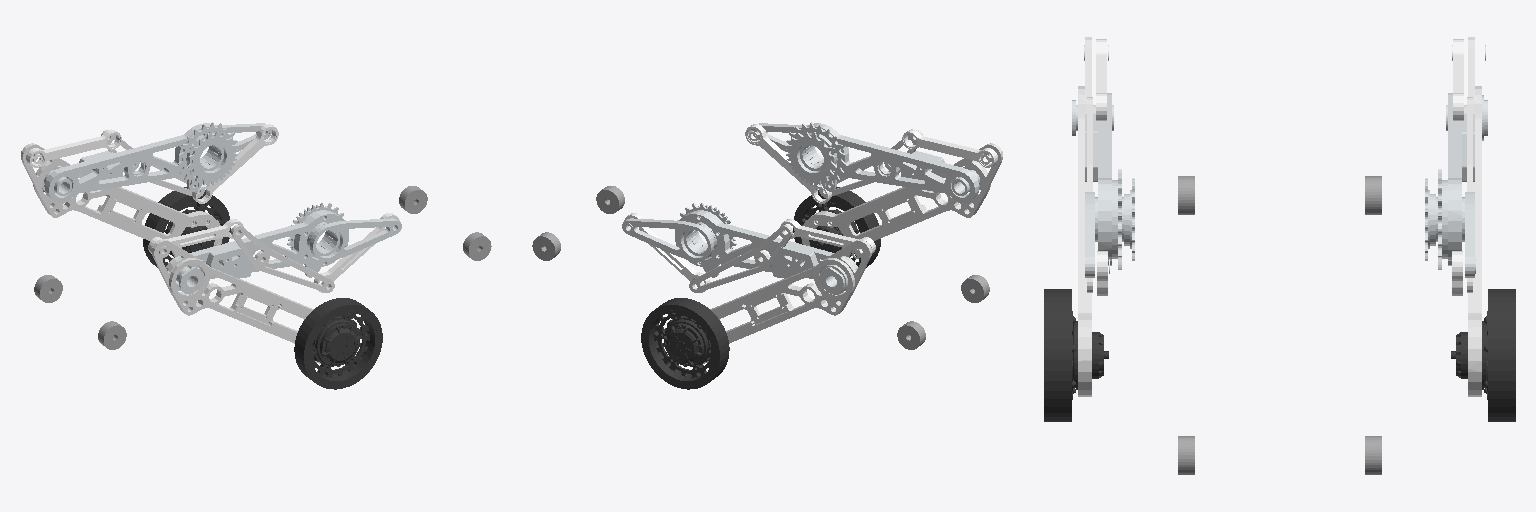
URDF robot description (rl_chassis_v12):
<?xml version='1.0' encoding='utf-8'?>
<!--
  rl_chassis_v12 = rl_chassis_v11_std + 4 POM 导轮。
  导轮关节：pom_wheel1_joint ... pom_wheel4_joint（被动转动，MJCF 中不加电机）。
  base_link 使用完整底盘网格 base_link_full.STL（raw 导出的 base_link.STL 不完整）。
-->
<robot name="rl_chassis_v12">
  <link name="base_link">
    <inertial>
      <origin xyz="-0.0046559117 0.00034120008 0.090788346" rpy="-1.5707963 0 1.5707963" />
      <mass value="15.64124353574336" />
      <inertia ixx="0.08236302652" ixy="0.0001245970808" ixz="-1.028204921e-05" iyy="0.1528007667" iyz="-0.000231448351" izz="0.09199505328" />
    </inertial>
    <visual>
      <origin xyz="0 0 0" rpy="-1.5707963 0 1.5707963" />
      <geometry>
        <mesh filename="../meshes/base_link_full.STL" />
      </geometry>
      <material name="">
        <color rgba="1 1 1 0.25" />
      </material>
    </visual>
    <collision>
      <origin xyz="0 0 0" rpy="-1.5707963 0 1.5707963" />
      <geometry>
        <mesh filename="../meshes/base_link_full.STL" />
      </geometry>
    </collision>
  </link>
  <link name="Left_front_Link">
    <inertial>
      <origin xyz="0.020720942 0 -0.018528575" rpy="0 3.673205e-06 0" />
      <mass value="0.116855368880026" />
      <inertia ixx="5.753889388e-05" ixy="-9.846249001e-10" ixz="-3.386722571e-05" iyy="0.0001757723773" iyz="-1.202130371e-12" izz="0.0001731448649" />
    </inertial>
    <visual>
      <origin xyz="0 0 0" rpy="0 3.673205e-06 0" />
      <geometry>
        <mesh filename="../meshes/Left_front_Link.STL" />
      </geometry>
      <material name="">
        <color rgba="0.898039215686275 0.917647058823529 0.929411764705882 1" />
      </material>
    </visual>
    <collision>
      <origin xyz="0 0 0" rpy="0 3.673205e-06 0" />
      <geometry>
        <mesh filename="../meshes/Left_front_Link.STL" />
      </geometry>
    </collision>
  </link>
  <joint name="Left_front_joint" type="continuous">
    <origin xyz="-0.001951 0.1755 0.11508" rpy="-1.5707963 0 0" />
    <parent link="base_link" />
    <child link="Left_front_Link" />
    <axis xyz="0 0 1" />
    <limit lower="-6.28" upper="6.28" effort="40" velocity="1" />
  </joint>
  <link name="Left_front_child1_link">
    <inertial>
      <origin xyz="-0.0475437251 0.0298318445 0.00480109902" rpy="-3.1415853 3.673119e-06 0.0068666" />
      <mass value="0.0291027754524193" />
      <inertia ixx="1.504472584e-05" ixy="-2.185320108e-05" ixz="1.415206517e-08" iyy="3.542535475e-05" iyz="9.015861169e-09" izz="4.999594301e-05" />
    </inertial>
    <visual>
      <origin xyz="-0.100071446 0.0627908435 -1.68247416e-09" rpy="-3.1415853 3.673119e-06 0.0068666" />
      <geometry>
        <mesh filename="../meshes/Left_front_child1_link.STL" />
      </geometry>
      <material name="">
        <color rgba="1 1 1 1" />
      </material>
    </visual>
    <collision>
      <origin xyz="0 0 0" rpy="-3.1415853 3.673119e-06 0.0068666" />
      <geometry>
        <mesh filename="../meshes/Left_front_child1_link.STL" />
      </geometry>
    </collision>
  </link>
  <joint name="Left_front_child1_joint" type="continuous">
    <origin xyz="0.0999999789 1.56497905e-07 -0.0209999983" rpy="0 0 0" />
    <parent link="Left_front_Link" />
    <child link="Left_front_child1_link" />
    <axis xyz="0 0 1" />
    <limit lower="-6.28" upper="6.28" effort="40" velocity="1" />
  </joint>
  <link name="Left_front_child2_link">
    <inertial>
      <origin xyz="-0.075240407 -0.051614709 0.002999901" rpy="-3.1415919 8.200069e-06 -1.0081334" />
      <mass value="0.0288133993862776" />
      <inertia ixx="8.214804701e-05" ixy="-7.068548926e-06" ixz="-3.180420776e-18" iyy="3.579972347e-06" iyz="7.875418801e-19" izz="8.555513896e-05" />
    </inertial>
    <visual>
      <origin xyz="0 0 0" rpy="-3.1415919 8.200069e-06 -1.0081334" />
      <geometry>
        <mesh filename="../meshes/Left_front_child2_link.STL" />
      </geometry>
      <material name="">
        <color rgba="0.929411764705882 0.929411764705882 0.929411764705882 1" />
      </material>
    </visual>
    <collision>
      <origin xyz="0 0 0" rpy="-3.1415919 8.200069e-06 -1.0081334" />
      <geometry>
        <mesh filename="../meshes/Left_front_child2_link.STL" />
      </geometry>
    </collision>
  </link>
  <joint name="Left_front_child2_joint" type="continuous">
    <origin xyz="-0.100071446 0.0627908435 0.0134999983" rpy="0 0 0" />
    <parent link="Left_front_child1_link" />
    <child link="Left_front_child2_link" />
    <axis xyz="0 0 1" />
    <limit lower="-6.28" upper="6.28" effort="40" velocity="1" />
  </joint>
  <link name="Left_front_child3_link">
    <inertial>
      <origin xyz="-0.0592002446 -0.000135145674 0.00466507761" rpy="-3.141585 2.917293e-06 0.1070666" />
      <mass value="0.0280256475740675" />
      <inertia ixx="1.458227402e-06" ixy="-4.377316923e-06" ixz="6.252009248e-08" iyy="4.26447828e-05" iyz="6.58482937e-09" izz="4.363937374e-05" />
    </inertial>
    <visual>
      <origin xyz="-0.114998475 -0.000266061394 7.12908753e-12" rpy="-3.141585 2.917293e-06 0.1070666" />
      <geometry>
        <mesh filename="../meshes/Left_front_child3_link.STL" />
      </geometry>
      <material name="">
        <color rgba="1 1 1 1" />
      </material>
    </visual>
    <collision>
      <origin xyz="0 0 0" rpy="-3.141585 2.917293e-06 0.1070666" />
      <geometry>
        <mesh filename="../meshes/Left_front_child3_link.STL" />
      </geometry>
    </collision>
  </link>
  <joint name="Left_front_child3_joint" type="continuous">
    <origin xyz="-0.136668405 -0.110450469 -0.012499876" rpy="0 0 0" />
    <parent link="Left_front_child2_link" />
    <child link="Left_front_child3_link" />
    <axis xyz="0 0 1" />
    <limit lower="-6.28" upper="6.28" effort="40" velocity="1" />
  </joint>
  <link name="Left_rear_link">
    <inertial>
      <origin xyz="-0.10384386 -0.00089227451 0.0081987714" rpy="3.141589 3.673196e-06 1.5730702" />
      <mass value="0.385404412043693" />
      <inertia ixx="0.002524151607" ixy="-4.842977512e-05" ixz="-2.404903569e-06" iyy="0.0001494360836" iyz="-0.0001526415186" izz="0.002612320627" />
    </inertial>
    <visual>
      <origin xyz="0 0 0" rpy="3.141589 3.673196e-06 1.5730702" />
      <geometry>
        <mesh filename="../meshes/Left_rear_link.STL" />
      </geometry>
      <material name="">
        <color rgba="0.898039215686275 0.917647058823529 0.929411764705882 1" />
      </material>
    </visual>
    <collision>
      <origin xyz="0 0 0" rpy="3.141589 3.673196e-06 1.5730702" />
      <geometry>
        <mesh filename="../meshes/Left_rear_link.STL" />
      </geometry>
    </collision>
  </link>
  <joint name="Left_rear_joint" type="continuous">
    <origin xyz="-0.001951 0.1515 0.11508" rpy="-1.5707963 0 0" />
    <parent link="base_link" />
    <child link="Left_rear_link" />
    <axis xyz="0 0 1" />
    <limit lower="-6.28" upper="6.28" effort="40" velocity="1" />
  </joint>
  <link name="Left_rear_child1_link">
    <inertial>
      <origin xyz="0.10391615 0.065343452 0.0054596195" rpy="-3.1415915 -5.059306e-06 -1.0081298" />
      <mass value="0.187774529973076" />
      <inertia ixx="0.001792193365" ixy="8.908801083e-06" ixz="-3.974423369e-07" iyy="7.838139344e-05" iyz="-1.302343444e-06" izz="0.001866267375" />
    </inertial>
    <visual>
      <origin xyz="0 0 0" rpy="-3.1415915 -5.059306e-06 -1.0081298" />
      <geometry>
        <mesh filename="../meshes/Left_rear_child1_link.STL" />
      </geometry>
      <material name="">
        <color rgba="0.929411764705882 0.929411764705882 0.929411764705882 1" />
      </material>
    </visual>
    <collision>
      <origin xyz="0 0 0" rpy="-3.1415915 -5.059306e-06 -1.0081298" />
      <geometry>
        <mesh filename="../meshes/Left_rear_child1_link.STL" />
      </geometry>
    </collision>
  </link>
  <joint name="Left_rear_child1_joint" type="continuous">
    <origin xyz="-0.21499951 -0.00048882211 0.017999212" rpy="0 0 0" />
    <parent link="Left_rear_link" />
    <child link="Left_rear_child1_link" />
    <axis xyz="0 0 1" />
    <limit lower="-6.28" upper="6.28" effort="40" velocity="1" />
  </joint>
  <link name="Left_Wheel_link">
    <inertial>
      <origin xyz="0.00010620928 4.2472314e-06 0.0079509143" rpy="3.1415909 -4.889671e-06 -0.44305977" />
      <mass value="0.304045474548524" />
      <inertia ixx="0.0002882533236" ixy="-3.721727505e-07" ixz="-4.796590888e-07" iyy="0.0002879143376" iyz="2.513604943e-07" izz="0.0004951986725" />
    </inertial>
    <visual>
      <origin xyz="0 0 0" rpy="3.1415909 -4.889671e-06 -0.44305977" />
      <geometry>
        <mesh filename="../meshes/Left_Wheel_link.STL" />
      </geometry>
      <material name="">
        <color rgba="0.298039215686275 0.298039215686275 0.298039215686275 1" />
      </material>
    </visual>
    <collision>
      <origin xyz="0 0 0" rpy="3.1415909 -4.889671e-06 -0.44305977" />
      <geometry>
        <mesh filename="../meshes/Left_Wheel_link.STL" />
      </geometry>
    </collision>
  </link>
  <joint name="Left_Wheel_joint" type="continuous">
    <origin xyz="0.21484219 0.13549473 0.017550293" rpy="0 0 0" />
    <parent link="Left_rear_child1_link" />
    <child link="Left_Wheel_link" />
    <axis xyz="0 0 1" />
    <limit lower="-6.28" upper="6.28" effort="40" velocity="1" />
  </joint>
  <link name="Right_front_link">
    <inertial>
      <origin xyz="0.020154374 0 -0.018664445" rpy="3.1415927 -3.673205e-06 0" />
      <mass value="0.116025988419479" />
      <inertia ixx="5.716029422e-05" ixy="9.745768683e-10" ixz="3.327789916e-05" iyy="0.0001730495178" iyz="3.195515282e-14" izz="0.0001705332826" />
    </inertial>
    <visual>
      <origin xyz="0 0 0" rpy="3.1415927 -3.673205e-06 0" />
      <geometry>
        <mesh filename="../meshes/Right_front_link.STL" />
      </geometry>
      <material name="">
        <color rgba="0.898039215686275 0.917647058823529 0.929411764705882 1" />
      </material>
    </visual>
    <collision>
      <origin xyz="0 0 0" rpy="3.1415927 -3.673205e-06 0" />
      <geometry>
        <mesh filename="../meshes/Right_front_link.STL" />
      </geometry>
    </collision>
  </link>
  <joint name="Right_front_joint" type="continuous">
    <origin xyz="-0.001951 -0.1755 0.11508" rpy="1.5707963 0 0" />
    <parent link="base_link" />
    <child link="Right_front_link" />
    <axis xyz="0 0 1" />
    <limit lower="-6.28" upper="6.28" effort="40" velocity="1" />
  </joint>
  <link name="Right_front_child1_link">
    <inertial>
      <origin xyz="-0.0462263005 -0.0290053065 0.00463846162" rpy="7.371632e-06 -3.673119e-06 -0.0068666" />
      <mass value="0.029932155912967" />
      <inertia ixx="1.557828403e-05" ixy="-2.263573406e-05" ixz="4.772358725e-08" iyy="3.668872644e-05" iyz="3.040269035e-08" izz="5.176727225e-05" />
    </inertial>
    <visual>
      <origin xyz="-0.100071359 -0.0627908325 -1.68247386e-09" rpy="7.371632e-06 -3.673119e-06 -0.0068666" />
      <geometry>
        <mesh filename="../meshes/Right_front_child1_link.STL" />
      </geometry>
      <material name="">
        <color rgba="1 1 1 1" />
      </material>
    </visual>
    <collision>
      <origin xyz="0 0 0" rpy="7.371632e-06 -3.673119e-06 -0.0068666" />
      <geometry>
        <mesh filename="../meshes/Right_front_child1_link.STL" />
      </geometry>
    </collision>
  </link>
  <joint name="Right_front_child1_joint" type="continuous">
    <origin xyz="0.100000046 -1.67484869e-07 -0.0209999983" rpy="0 0 0" />
    <parent link="Right_front_link" />
    <child link="Right_front_child1_link" />
    <axis xyz="0 0 1" />
    <limit lower="-6.28" upper="6.28" effort="40" velocity="1" />
  </joint>
  <link name="Right_front_child2_link">
    <inertial>
      <origin xyz="-0.075240429 0.051614665 0.003000099" rpy="7.69177e-07 -8.200069e-06 1.0081334" />
      <mass value="0.0288133993862776" />
      <inertia ixx="8.215270954e-05" ixy="-7.070698082e-06" ixz="1.941597668e-18" iyy="3.579396824e-06" iyz="1.364349856e-18" izz="8.555922597e-05" />
    </inertial>
    <visual>
      <origin xyz="0 0 0" rpy="7.69177e-07 -8.200069e-06 1.0081334" />
      <geometry>
        <mesh filename="../meshes/Right_front_child2_link.STL" />
      </geometry>
      <material name="">
        <color rgba="0.929411764705882 0.929411764705882 0.929411764705882 1" />
      </material>
    </visual>
    <collision>
      <origin xyz="0 0 0" rpy="7.69177e-07 -8.200069e-06 1.0081334" />
      <geometry>
        <mesh filename="../meshes/Right_front_child2_link.STL" />
      </geometry>
    </collision>
  </link>
  <joint name="Right_front_joint2_joint" type="continuous">
    <origin xyz="-0.100071359 -0.0627908325 0.0134999983" rpy="0 0 0" />
    <parent link="Right_front_child1_link" />
    <child link="Right_front_child2_link" />
    <axis xyz="0 0 1" />
    <limit lower="-6.28" upper="6.28" effort="40" velocity="1" />
  </joint>
  <link name="Right_front_joint3_link">
    <inertial>
      <origin xyz="-0.0592002027 0.000135235606 0.00463589761" rpy="7.702089e-06 -2.917293e-06 -0.1070666" />
      <mass value="0.0280256475740675" />
      <inertia ixx="1.460641578e-06" ixy="-4.37731692e-06" ixz="-7.527515553e-08" iyy="4.264719695e-05" iyz="-7.925692701e-09" izz="4.363937371e-05" />
    </inertial>
    <visual>
      <origin xyz="-0.114998399 0.000266219656 7.13332815e-12" rpy="7.702089e-06 -2.917293e-06 -0.1070666" />
      <geometry>
        <mesh filename="../meshes/Right_front_joint3_link.STL" />
      </geometry>
      <material name="">
        <color rgba="1 1 1 1" />
      </material>
    </visual>
    <collision>
      <origin xyz="0 0 0" rpy="7.702089e-06 -2.917293e-06 -0.1070666" />
      <geometry>
        <mesh filename="../meshes/Right_front_joint3_link.STL" />
      </geometry>
    </collision>
  </link>
  <joint name="Right_front_joint3_joint" type="continuous">
    <origin xyz="-0.136668391 0.11045049 -0.012500124" rpy="0 0 0" />
    <parent link="Right_front_child2_link" />
    <child link="Right_front_joint3_link" />
    <axis xyz="0 0 1" />
    <limit lower="-6.28" upper="6.28" effort="40" velocity="1" />
  </joint>
  <link name="Right_rear_link">
    <inertial>
      <origin xyz="-0.1038438 0.00089233461 0.0081995277" rpy="-3.664853e-06 -3.673196e-06 -1.5730702" />
      <mass value="0.385404412043693" />
      <inertia ixx="0.002486447913" ixy="-5.250141042e-05" ixz="2.818298659e-06" iyy="0.0001483070126" iyz="0.0001337665065" izz="0.002580609369" />
    </inertial>
    <visual>
      <origin xyz="0 0 0" rpy="-3.664853e-06 -3.673196e-06 -1.5730702" />
      <geometry>
        <mesh filename="../meshes/Right_rear_link.STL" />
      </geometry>
      <material name="">
        <color rgba="0.898039215686275 0.917647058823529 0.929411764705882 1" />
      </material>
    </visual>
    <collision>
      <origin xyz="0 0 0" rpy="-3.664853e-06 -3.673196e-06 -1.5730702" />
      <geometry>
        <mesh filename="../meshes/Right_rear_link.STL" />
      </geometry>
    </collision>
  </link>
  <joint name="Right_rear_joint" type="continuous">
    <origin xyz="-0.001951 -0.1515 0.11508" rpy="1.5707963 0 0" />
    <parent link="base_link" />
    <child link="Right_rear_link" />
    <axis xyz="0 0 1" />
    <limit lower="-6.28" upper="6.28" effort="40" velocity="1" />
  </joint>
  <link name="Right_rear_child1_link">
    <inertial>
      <origin xyz="0.10391619 -0.065343412 0.005419583" rpy="1.151928e-06 5.059306e-06 1.0081298" />
      <mass value="0.187774529973075" />
      <inertia ixx="0.001791187399" ixy="8.959222055e-06" ixz="4.279881626e-07" iyy="7.836742727e-05" iyz="1.562033912e-06" izz="0.001865281397" />
    </inertial>
    <visual>
      <origin xyz="0 0 0" rpy="1.151928e-06 5.059306e-06 1.0081298" />
      <geometry>
        <mesh filename="../meshes/Right_rear_child1_link.STL" />
      </geometry>
      <material name="">
        <color rgba="0.929411764705882 0.929411764705882 0.929411764705882 1" />
      </material>
    </visual>
    <collision>
      <origin xyz="0 0 0" rpy="1.151928e-06 5.059306e-06 1.0081298" />
      <geometry>
        <mesh filename="../meshes/Right_rear_child1_link.STL" />
      </geometry>
    </collision>
  </link>
  <joint name="Right_rear_child1_joint" type="continuous">
    <origin xyz="-0.21499938 0.00048895405 0.018000788" rpy="0 0 0" />
    <parent link="Right_rear_link" />
    <child link="Right_rear_child1_link" />
    <axis xyz="0 0 1" />
    <limit lower="-6.28" upper="6.28" effort="40" velocity="1" />
  </joint>
  <link name="Right_Wheel_link">
    <inertial>
      <origin xyz="0.00010626758 -4.1888956e-06 0.0079509128" rpy="-1.736269e-06 4.889671e-06 0.44305977" />
      <mass value="0.304045452275079" />
      <inertia ixx="0.000288256703" ixy="-3.746691011e-07" ixz="4.800295747e-07" iyy="0.0002879126093" iyz="-2.643472537e-07" izz="0.0004952006227" />
    </inertial>
    <visual>
      <origin xyz="0 0 0" rpy="-1.736269e-06 4.889671e-06 0.44305977" />
      <geometry>
        <mesh filename="../meshes/Right_Wheel_link.STL" />
      </geometry>
      <material name="">
        <color rgba="0.298039215686275 0.298039215686275 0.298039215686275 1" />
      </material>
    </visual>
    <collision>
      <origin xyz="0 0 0" rpy="-1.736269e-06 4.889671e-06 0.44305977" />
      <geometry>
        <mesh filename="../meshes/Right_Wheel_link.STL" />
      </geometry>
    </collision>
  </link>
  <joint name="Right_Wheel_joint" type="continuous">
    <origin xyz="0.21484232 -0.1354946 0.017549707" rpy="0 0 0" />
    <parent link="Right_rear_child1_link" />
    <child link="Right_Wheel_link" />
    <axis xyz="0 0 1" />
    <limit lower="-6.28" upper="6.28" effort="40" velocity="1" />
  </joint>
  <link name="pom_wheel1_Link">
    <inertial>
      <origin xyz="0 0 0" rpy="0 -1.5707963 0" />
      <mass value="0.0190120155316375" />
      <inertia ixx="3.04700549e-06" ixy="4.677349269e-21" ixz="-3.08651462e-20" iyy="1.879977811e-06" iyz="-4.601321062e-13" izz="1.879978318e-06" />
    </inertial>
    <visual>
      <origin xyz="-0.27504899 0.0095689255 -0.083999999" rpy="0 -1.5707963 0" />
      <geometry>
        <mesh filename="../meshes/pom_wheel1_Link.STL" />
      </geometry>
      <material name="">
        <color rgba="0.698039215686274 0.698039215686274 0.698039215686274 1" />
      </material>
    </visual>
    <collision>
      <origin xyz="-0.27504899 0.0095689255 -0.083999999" rpy="0 -1.5707963 0" />
      <geometry>
        <mesh filename="../meshes/pom_wheel1_Link.STL" />
      </geometry>
    </collision>
  </link>
  <joint name="pom_wheel1_joint" type="continuous">
    <origin xyz="0.27504899 0.083999999 0.0095689255" rpy="-1.5707963 0 0" />
    <parent link="base_link" />
    <child link="pom_wheel1_Link" />
    <axis xyz="0 0 1" />
    <limit lower="-6.28" upper="6.28" effort="40" velocity="1" />
  </joint>
  <link name="pom_wheel2_Link">
    <inertial>
      <origin xyz="0 0 0" rpy="0 1.5707963 -3.1415927" />
      <mass value="0.0190120155316375" />
      <inertia ixx="3.04700545e-06" ixy="2.904901288e-20" ixz="1.281588222e-18" iyy="1.879977746e-06" iyz="-5.196445214e-14" izz="1.879978343e-06" />
    </inertial>
    <visual>
      <origin xyz="-0.275049 -0.009568925 -0.083999999" rpy="0 1.5707963 -3.1415927" />
      <geometry>
        <mesh filename="../meshes/pom_wheel2_Link.STL" />
      </geometry>
      <material name="">
        <color rgba="0.698039215686274 0.698039215686274 0.698039215686274 1" />
      </material>
    </visual>
    <collision>
      <origin xyz="-0.275049 -0.009568925 -0.083999999" rpy="0 1.5707963 -3.1415927" />
      <geometry>
        <mesh filename="../meshes/pom_wheel2_Link.STL" />
      </geometry>
    </collision>
  </link>
  <joint name="pom_wheel2_joint" type="continuous">
    <origin xyz="0.275049 -0.083999999 0.009568925" rpy="1.5707963 0 0" />
    <parent link="base_link" />
    <child link="pom_wheel2_Link" />
    <axis xyz="0 0 1" />
    <limit lower="-6.28" upper="6.28" effort="40" velocity="1" />
  </joint>
  <link name="pom_wheel3_Link">
    <inertial>
      <origin xyz="0 0 0" rpy="0 1.5707963 -3.1415927" />
      <mass value="0.0190120155316375" />
      <inertia ixx="3.047006317e-06" ixy="5.612797232e-20" ixz="-3.592269863e-19" iyy="1.879978882e-06" iyz="2.43510193e-13" izz="1.879978075e-06" />
    </inertial>
    <visual>
      <origin xyz="0.278951 -0.009568925 -0.083999999" rpy="0 1.5707963 -3.1415927" />
      <geometry>
        <mesh filename="../meshes/pom_wheel3_Link.STL" />
      </geometry>
      <material name="">
        <color rgba="0.698039215686274 0.698039215686274 0.698039215686274 1" />
      </material>
    </visual>
    <collision>
      <origin xyz="0.278951 -0.009568925 -0.083999999" rpy="0 1.5707963 -3.1415927" />
      <geometry>
        <mesh filename="../meshes/pom_wheel3_Link.STL" />
      </geometry>
    </collision>
  </link>
  <joint name="pom_wheel3_joint" type="continuous">
    <origin xyz="-0.278951 -0.083999999 0.009568925" rpy="1.5707963 0 0" />
    <parent link="base_link" />
    <child link="pom_wheel3_Link" />
    <axis xyz="0 0 1" />
    <limit lower="-6.28" upper="6.28" effort="40" velocity="1" />
  </joint>
  <link name="pom_wheel4_Link">
    <inertial>
      <origin xyz="0 0 0" rpy="0 -1.5707963 0" />
      <mass value="0.0190120155316375" />
      <inertia ixx="3.047005937e-06" ixy="1.848627244e-21" ixz="-7.226750202e-19" iyy="1.879978305e-06" iyz="6.188606558e-13" izz="1.879978271e-06" />
    </inertial>
    <visual>
      <origin xyz="0.278951 0.0095689245 -0.083999999" rpy="0 -1.5707963 0" />
      <geometry>
        <mesh filename="../meshes/pom_wheel4_Link.STL" />
      </geometry>
      <material name="">
        <color rgba="0.698039215686274 0.698039215686274 0.698039215686274 1" />
      </material>
    </visual>
    <collision>
      <origin xyz="0.278951 0.0095689245 -0.083999999" rpy="0 -1.5707963 0" />
      <geometry>
        <mesh filename="../meshes/pom_wheel4_Link.STL" />
      </geometry>
    </collision>
  </link>
  <joint name="pom_wheel4_joint" type="continuous">
    <origin xyz="-0.278951 0.083999999 0.0095689245" rpy="-1.5707963 0 0" />
    <parent link="base_link" />
    <child link="pom_wheel4_Link" />
    <axis xyz="0 0 1" />
    <limit lower="-6.28" upper="6.28" effort="40" velocity="1" />
  </joint>
</robot>

--- Facts derived from the render (not from the file) ---
3 views of the same robot in one strip: view 1: azimuth 30°, elevation 25°; view 2: azimuth 150°, elevation 25°; view 3: azimuth 270°, elevation 25° (orthographic).
Robot: rl_chassis_v12 — 19 links, 18 joints (18 continuous); root link base_link; default pose: every joint at zero.
Links seen in each view (by area): view 1: Right_Wheel_link, Left_rear_link, Right_rear_child1_link, Left_rear_child1_link, Right_rear_link, Right_front_link, Left_front_Link, Left_Wheel_link, Right_front_child2_link, Left_front_child3_link, Left_front_child1_link, Right_front_joint3_link (+6 smaller); view 2: Left_Wheel_link, Right_rear_link, Left_rear_child1_link, Right_rear_child1_link, Left_rear_link, Left_front_Link, Right_front_link, Right_Wheel_link, Left_front_child2_link, Right_front_joint3_link, Right_front_child1_link, Left_front_child3_link (+6 smaller); view 3: Left_Wheel_link, Right_Wheel_link, Left_rear_link, Right_rear_link, Right_rear_child1_link, Left_rear_child1_link, Left_front_Link, Right_front_link, Left_front_child3_link, Right_front_joint3_link, pom_wheel1_Link, pom_wheel2_Link (+4 smaller).
Link boxes in pixels (box(x1,y1,x2,y2)): Right_Wheel_link: box(294, 298, 382, 389); Left_rear_link: box(42, 122, 238, 202); Right_rear_child1_link: box(152, 239, 351, 363); Left_rear_child1_link: box(21, 143, 222, 266); Right_rear_link: box(166, 203, 348, 294); Right_front_link: box(288, 205, 401, 261); Left_front_Link: box(188, 123, 271, 184); Left_Wheel_link: box(143, 187, 230, 267); Right_front_child2_link: box(231, 225, 334, 292); Left_front_child3_link: box(26, 129, 121, 167); Left_front_child1_link: box(192, 124, 278, 203); Right_front_joint3_link: box(148, 219, 243, 253); Left_Wheel_link: box(641, 298, 729, 389); Right_rear_link: box(785, 122, 981, 202); Left_rear_child1_link: box(672, 239, 871, 363); Right_rear_child1_link: box(801, 143, 1002, 266); Left_rear_link: box(675, 203, 857, 294); Left_front_Link: box(622, 205, 735, 261); Right_front_link: box(752, 123, 835, 184); Right_Wheel_link: box(793, 187, 880, 267); Left_front_child2_link: box(689, 225, 792, 292); Right_front_joint3_link: box(902, 129, 997, 167); Right_front_child1_link: box(745, 124, 831, 203); Left_front_child3_link: box(780, 219, 875, 253); Left_Wheel_link: box(1451, 289, 1515, 421); Right_Wheel_link: box(1044, 289, 1108, 421); Left_rear_link: box(1438, 93, 1487, 269); Right_rear_link: box(1072, 93, 1121, 269); Right_rear_child1_link: box(1078, 37, 1091, 396); Left_rear_child1_link: box(1468, 37, 1485, 396); Left_front_Link: box(1425, 178, 1475, 277); Right_front_link: box(1085, 178, 1134, 277); Left_front_child3_link: box(1452, 39, 1463, 120); Right_front_joint3_link: box(1096, 39, 1108, 120); pom_wheel1_Link: box(1365, 436, 1381, 474); pom_wheel2_Link: box(1178, 436, 1194, 474).
Bounding box of the posed robot: 0.589 × 0.4241 × 0.2576 m (x, y, z).
18 mesh visuals loaded from 19 distinct referenced files (18 binary STL); not drawn: 1 (reference not matched to a file when rendering).
